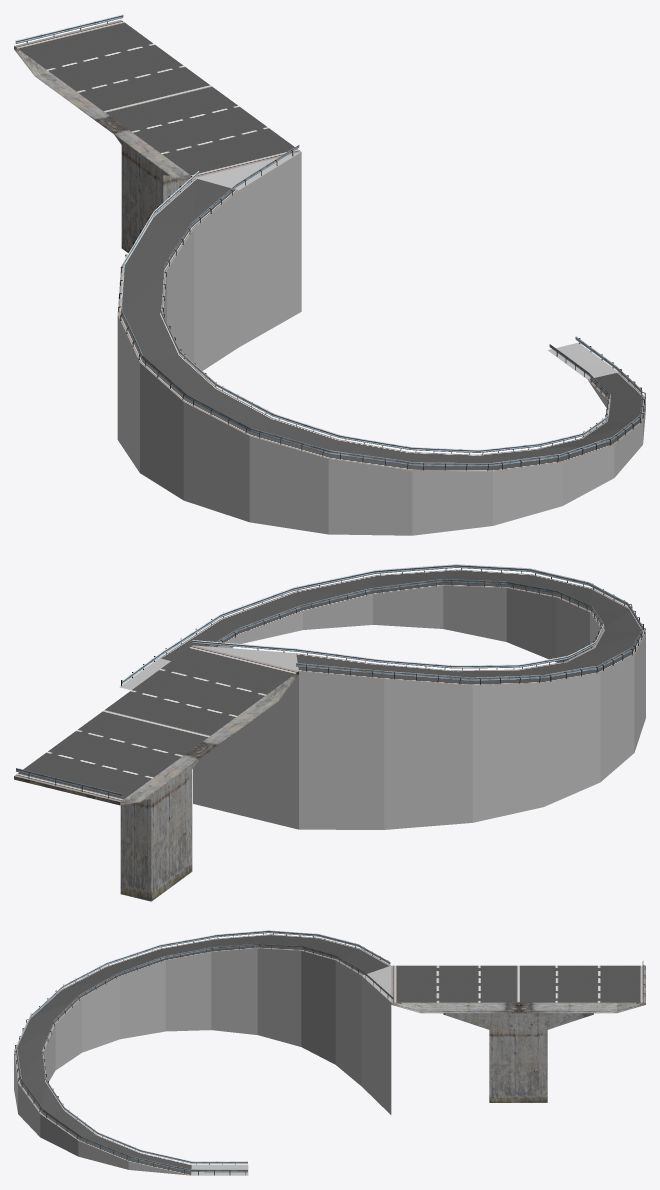
Rendered from 6 line highway onramp_mobile.FBX.
3 renders of one model, top to bottom at view 1: azimuth 30°, elevation 25°; view 2: azimuth 150°, elevation 25°; view 3: azimuth 270°, elevation 25°, orthographic. The views are drawn at different scales.
Visible parts, largest first — view 1: Object006; view 2: Object006; view 3: Object006.
Part boxes in pixels (bbox=[...]): Object006: bbox=[14, 14, 645, 535]; Object006: bbox=[14, 564, 645, 901]; Object006: bbox=[14, 930, 645, 1175].
Bounding box in the file's own units: 51.88 × 17.99 × 87.04.
